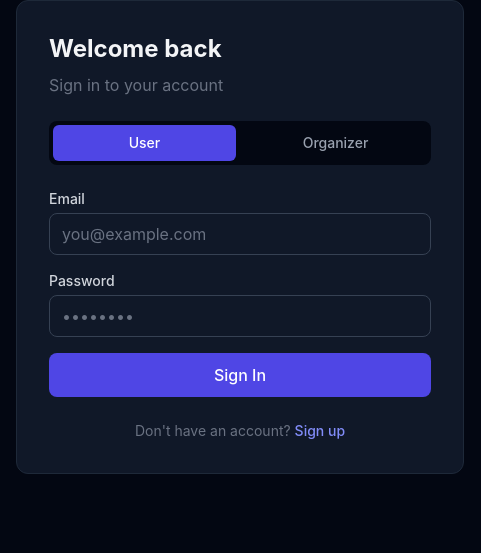
Test case: LoginForm › displays error message when login fails
The image size is (481, 553).
Type "wrong@example.com" into the field labelled "Email" at [240, 234], box [49,213,431,255]
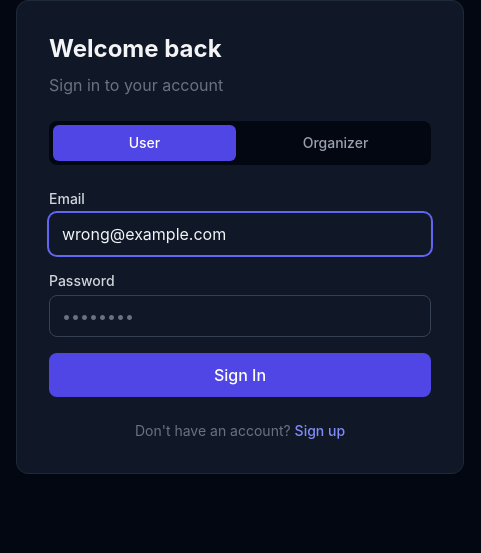
Type "wrongpass" into the password field labelled "Password" at [240, 316], box [49,295,431,337]
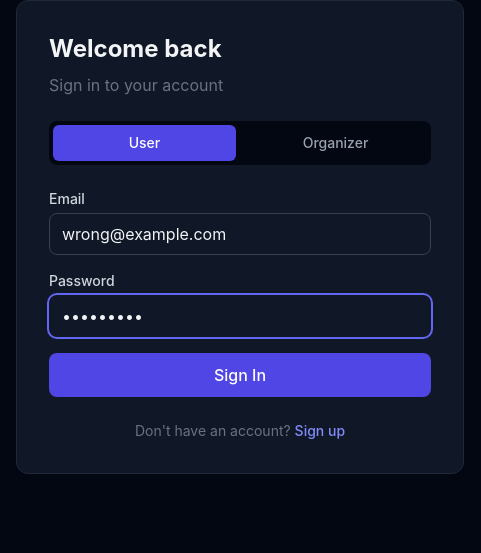
Click the button "Sign In" at [240, 375], box [49,353,431,397]
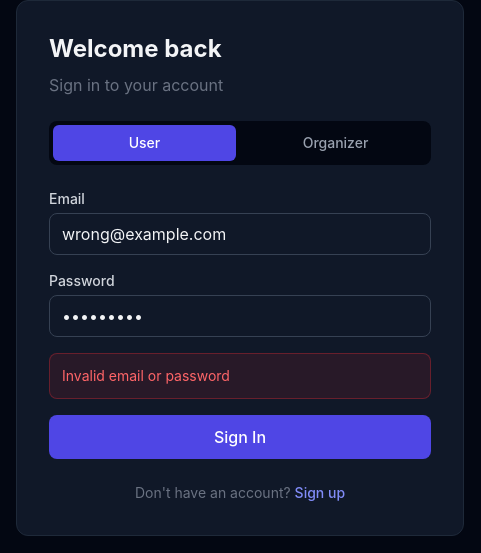
Expected: the text "Invalid email or password" is shown, [62,367,230,384]
